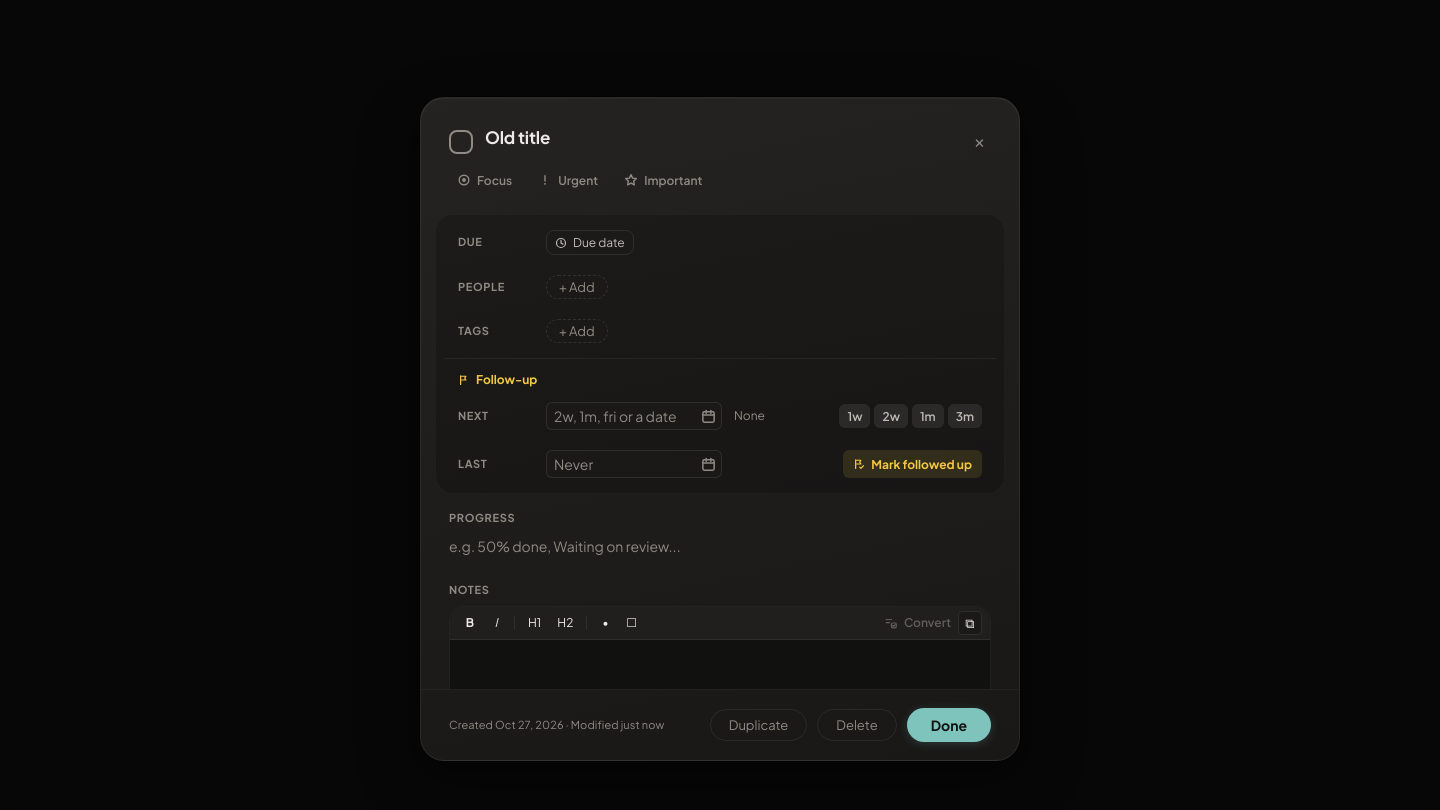
Test case: TaskEditPopup with concurrent changes to its task › progress typed while the title changes elsewhere: each keeps its own change
Step 1. Type "half done" into the field with placeholder "e.g. 50% done, Waiting on review..." → (720, 546), box [449,535,991,558]
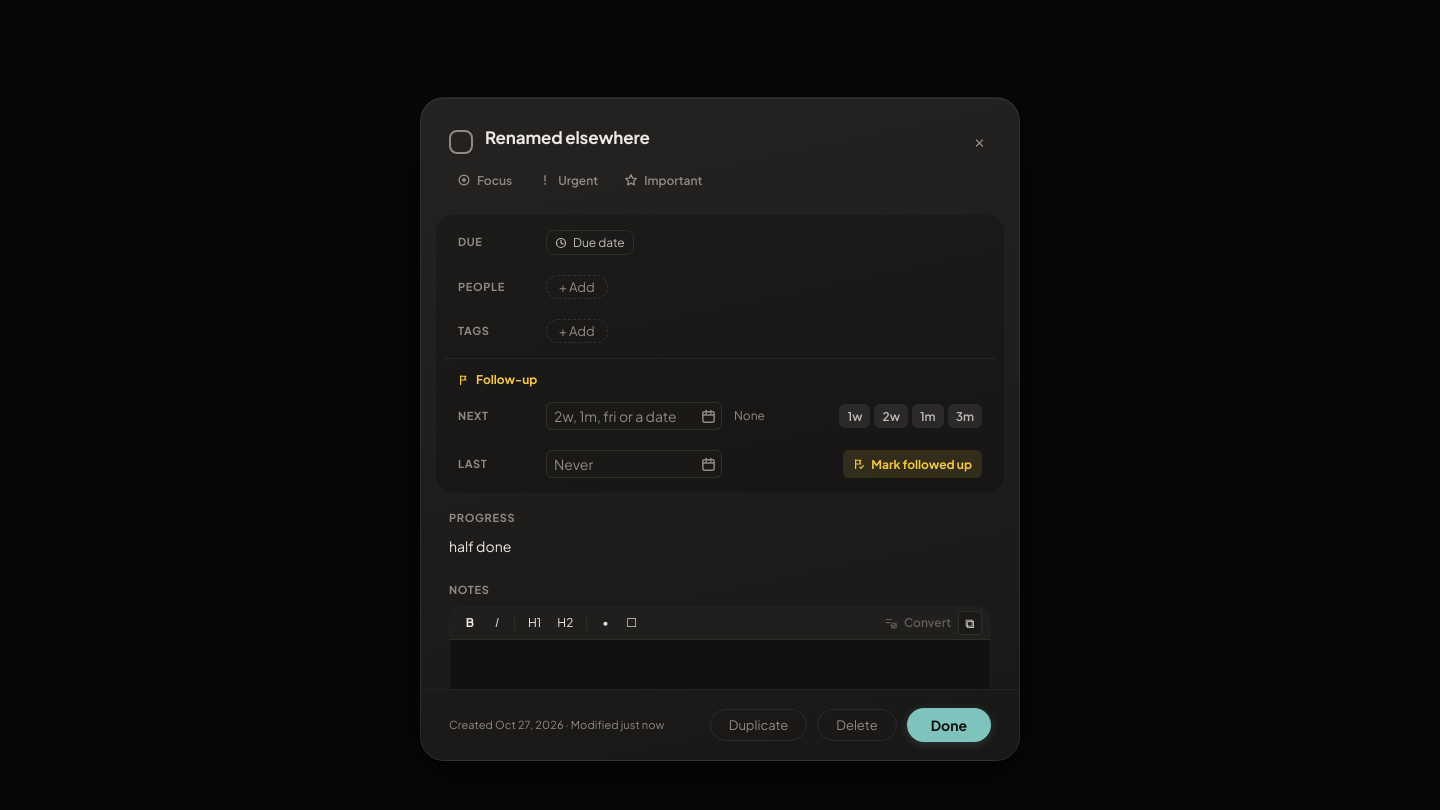
Expected: the 1st field with placeholder "Task title" holds "Renamed elsewhere", [485,126,956,150]
